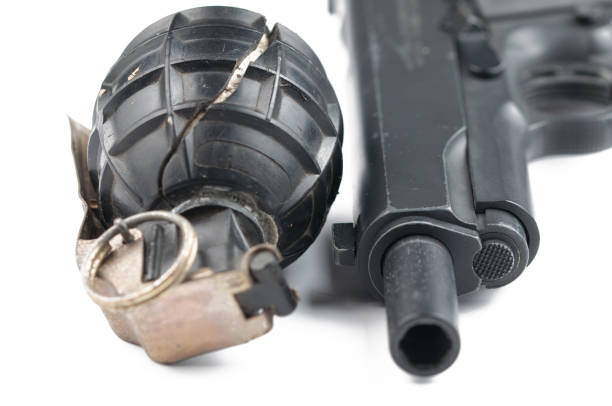e1: (71, 5, 346, 359)
